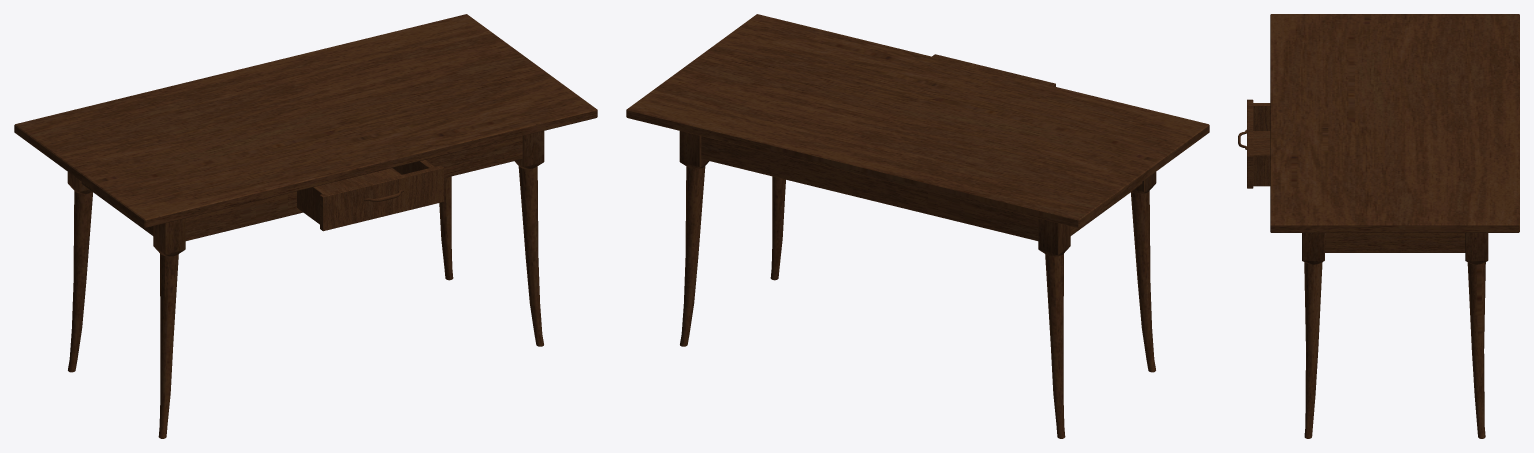
Rendered from Table.001.fbx.
3 views of the same model, side by side, from view 1: azimuth 30°, elevation 25°; view 2: azimuth 150°, elevation 25°; view 3: azimuth 270°, elevation 25° (orthographic). The views are drawn at different scales.
Parts seen in each view (by area): view 1: Table_001, DrawerTable_001; view 2: Table_001; view 3: Table_001, DrawerTable_001.
Boxes of the visible parts, x1,y1,x2,y2 form: Table_001: (14,14,597,438); DrawerTable_001: (297,160,443,231); Table_001: (626,14,1209,438); Table_001: (1270,14,1519,438); DrawerTable_001: (1238,99,1270,188).
Bounding box in the file's own units: 1.56 × 0.7934 × 0.8794.
